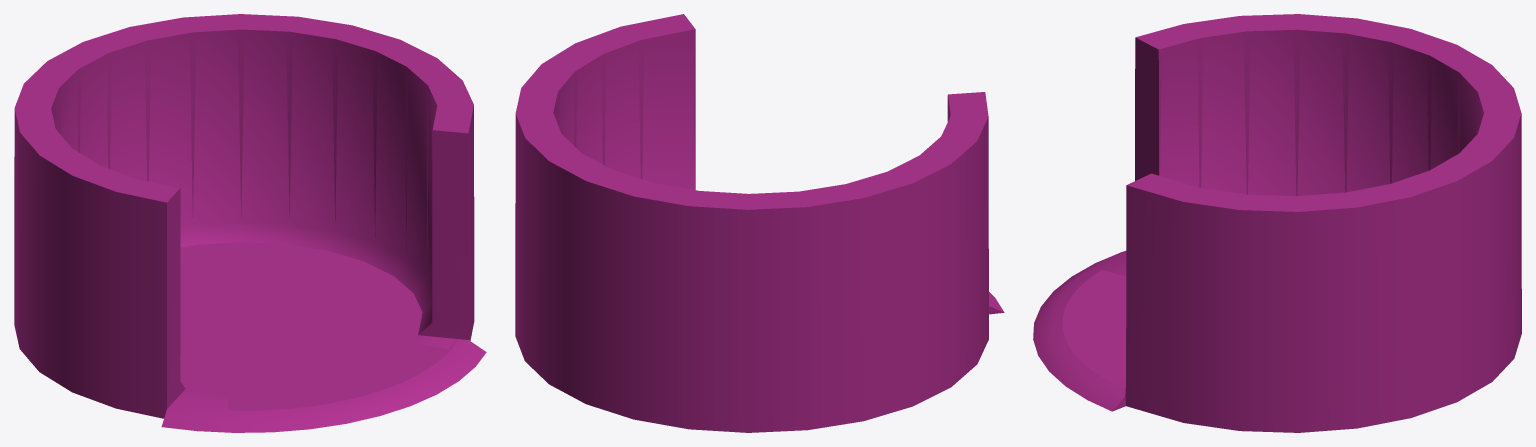
Rendered from StudioStage_01_Mesh.fbx.
The picture shows the model from 3 angles, left to right: view 1: azimuth 30°, elevation 25°; view 2: azimuth 150°, elevation 25°; view 3: azimuth 270°, elevation 25°; orthographic projection. The views are drawn at different scales.
Visible parts, largest first — view 1: COL_lighitng_studio_2_internal, lighitng_studio_2_internal; view 2: COL_lighitng_studio_2_internal, lighitng_studio_2_internal; view 3: COL_lighitng_studio_2_internal, lighitng_studio_2_internal.
Boxes of the visible parts, x1=… form: COL_lighitng_studio_2_internal: x1=14, y1=14, x2=486, y2=432; lighitng_studio_2_internal: x1=58, y1=30, x2=458, y2=410; COL_lighitng_studio_2_internal: x1=515, y1=14, x2=1004, y2=432; lighitng_studio_2_internal: x1=557, y1=29, x2=948, y2=189; COL_lighitng_studio_2_internal: x1=1033, y1=14, x2=1521, y2=432; lighitng_studio_2_internal: x1=1062, y1=30, x2=1478, y2=388.
Bounding box in the file's own units: 1538 × 799 × 1602.
